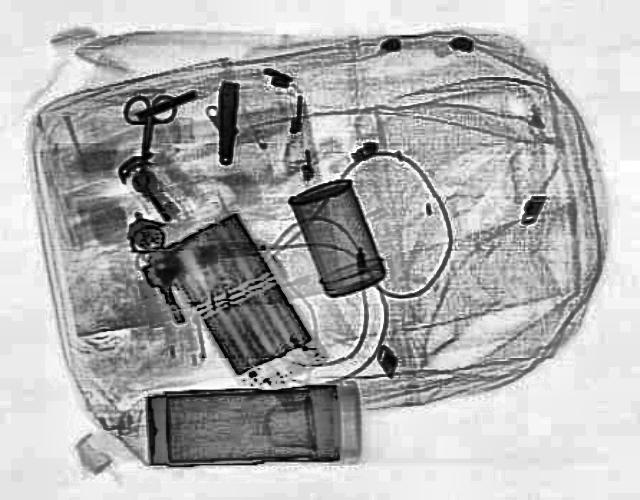Scissors: (117, 92, 175, 164)
